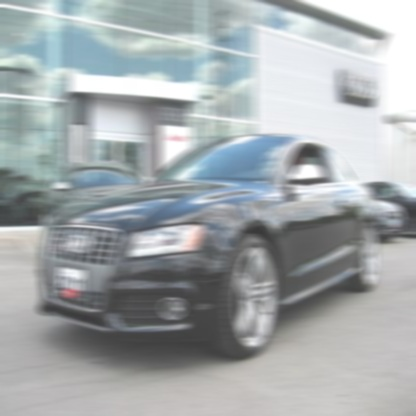Vehicle: (33, 127, 382, 366)
